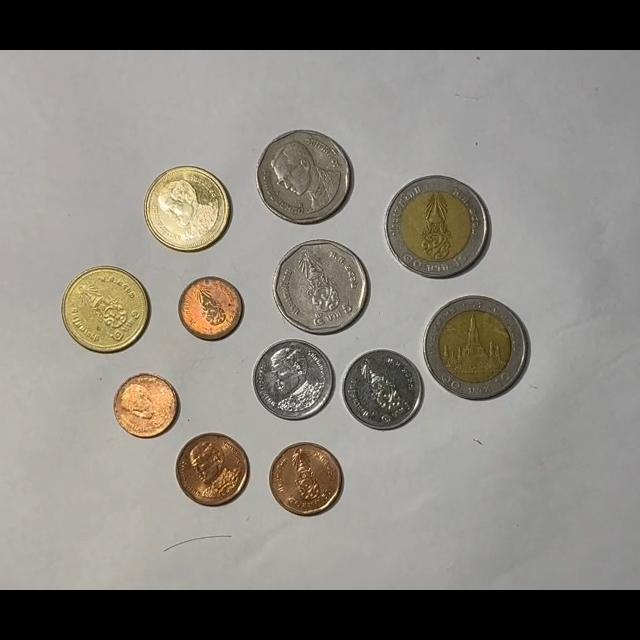1-baht: (252, 338, 335, 420), (341, 348, 423, 431)
10-baht: (423, 295, 529, 401), (384, 175, 490, 278)
2-baht: (61, 266, 150, 355), (144, 165, 232, 253)
25-satang: (113, 372, 180, 438), (178, 276, 244, 342)
5-baht: (273, 239, 369, 336), (255, 129, 352, 224)
50-satang: (175, 433, 250, 507), (268, 442, 342, 516)
